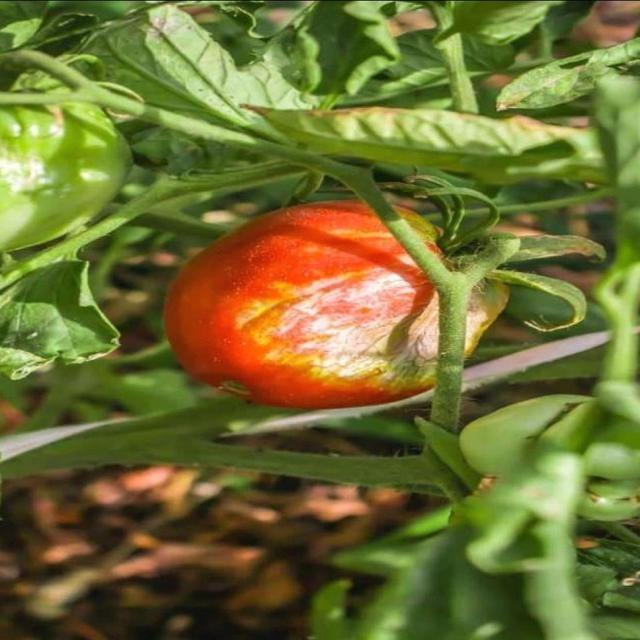Sunscald Fruit: (100, 75, 317, 322)
